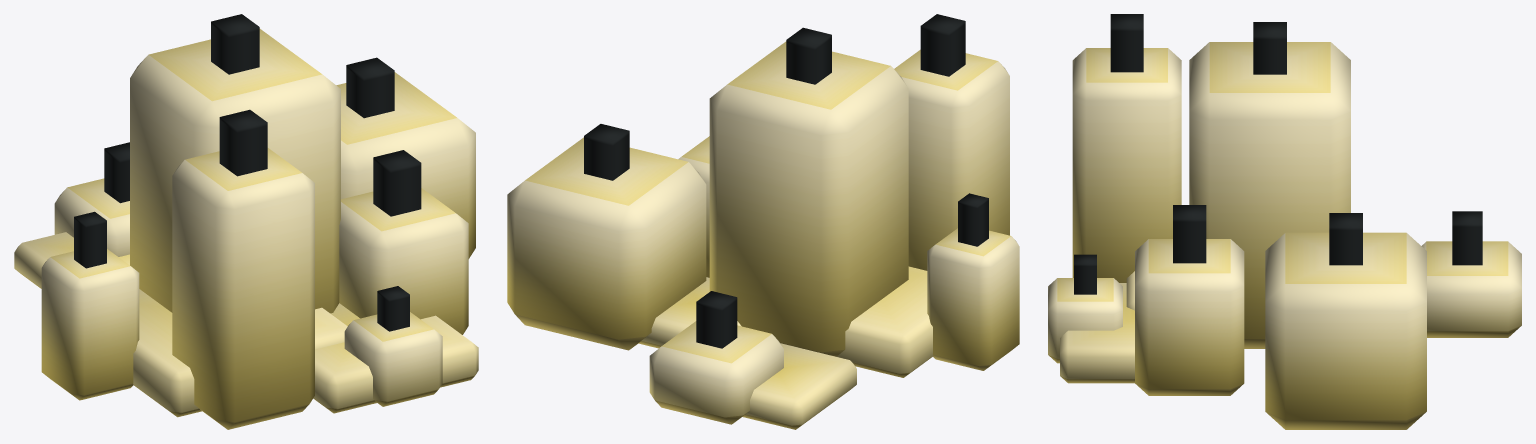
File: candle_arrangement_1.fbx
3 views of the same model, side by side, from view 1: azimuth 30°, elevation 25°; view 2: azimuth 150°, elevation 25°; view 3: azimuth 270°, elevation 25° (orthographic). The views are drawn at different scales.
Parts seen in each view (by area): view 1: candle_arrangement_1; view 2: candle_arrangement_1; view 3: candle_arrangement_1.
Part boxes in pixels (<box>): candle_arrangement_1: <box>14,14,478,429</box>; candle_arrangement_1: <box>507,14,1019,429</box>; candle_arrangement_1: <box>1048,14,1521,429</box>.
Size of the model in its own units: 120 by 80.1 by 117.
